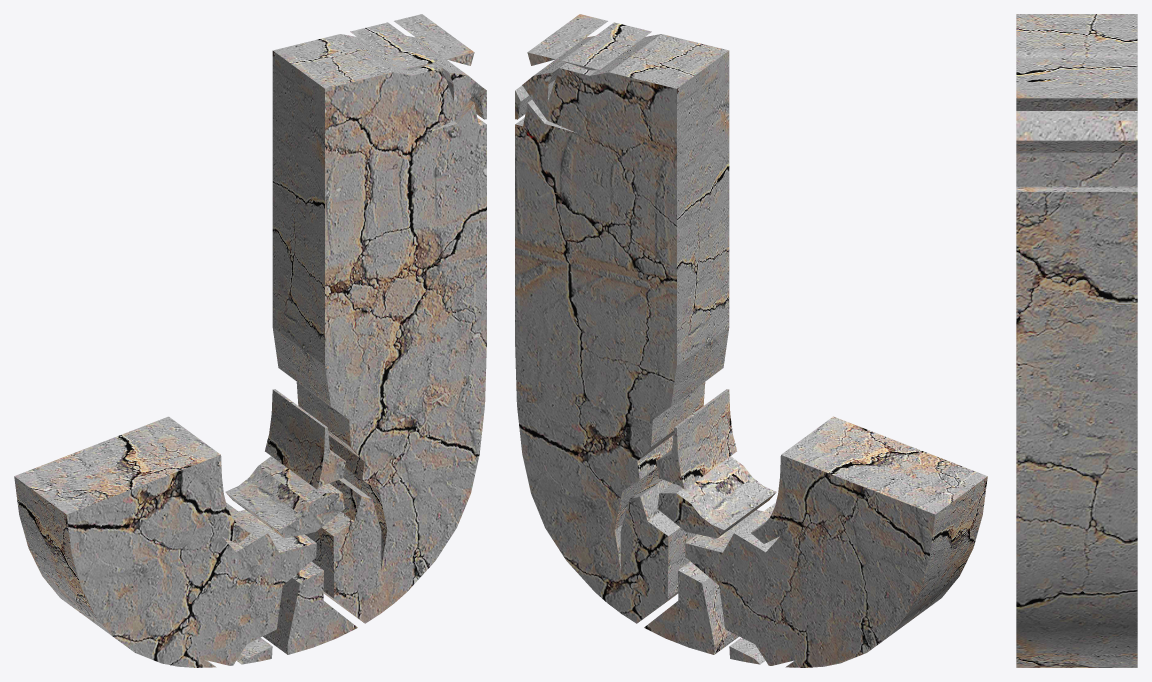
3 renders of one model, left to right at view 1: azimuth 30°, elevation 25°; view 2: azimuth 150°, elevation 25°; view 3: azimuth 270°, elevation 25°, orthographic. The views are drawn at different scales.
Visible parts, largest first — view 1: J; view 2: J; view 3: J.
Part boxes in pixels (x1,y1,x2,y2): J: [14, 14, 486, 667]; J: [515, 14, 987, 667]; J: [1016, 14, 1137, 667].
Size of the model in its own units: 69.36 by 87.88 by 15.
1 material, 1 textured.
